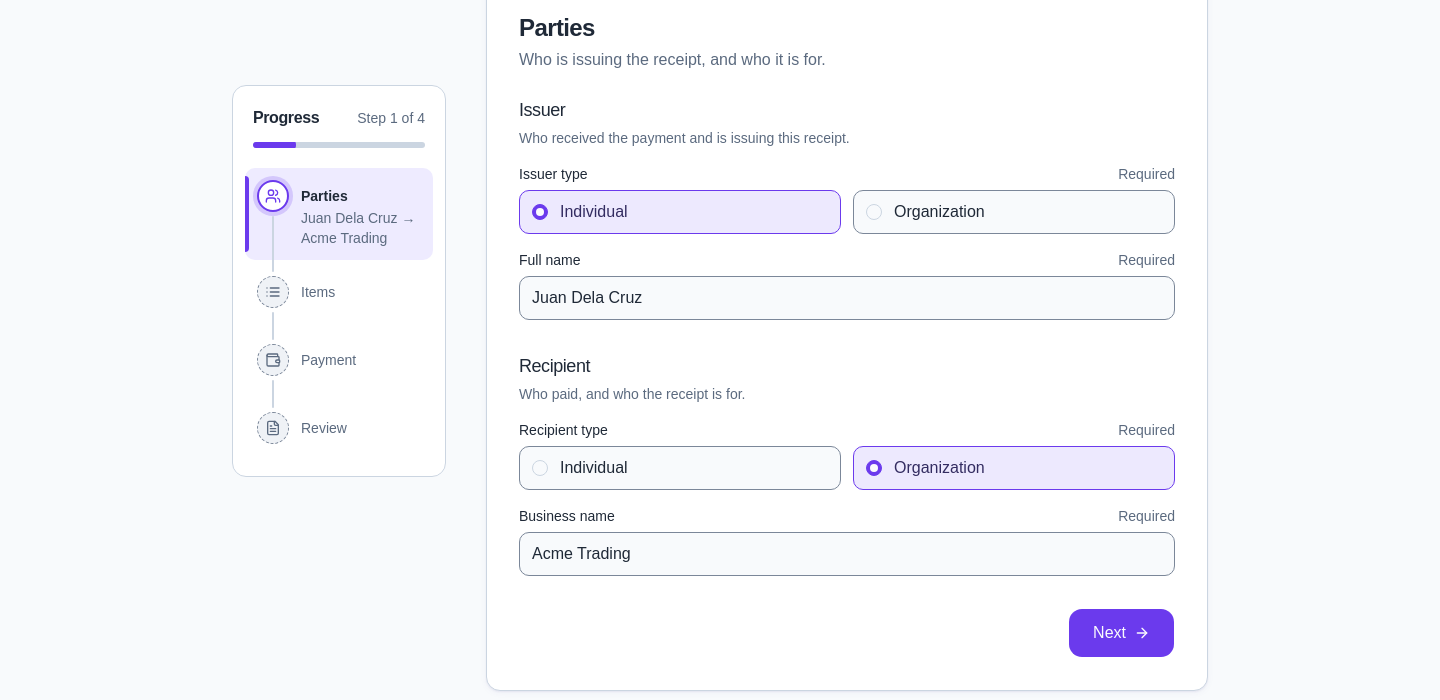
the BIR line › never puts it in a label, heading or test id
The width and height of the screenshot is (1440, 700).
(page scrolled)
Click the button "Next": (1122, 633) left=1068, top=608, right=1175, bottom=658
(page scrolled)
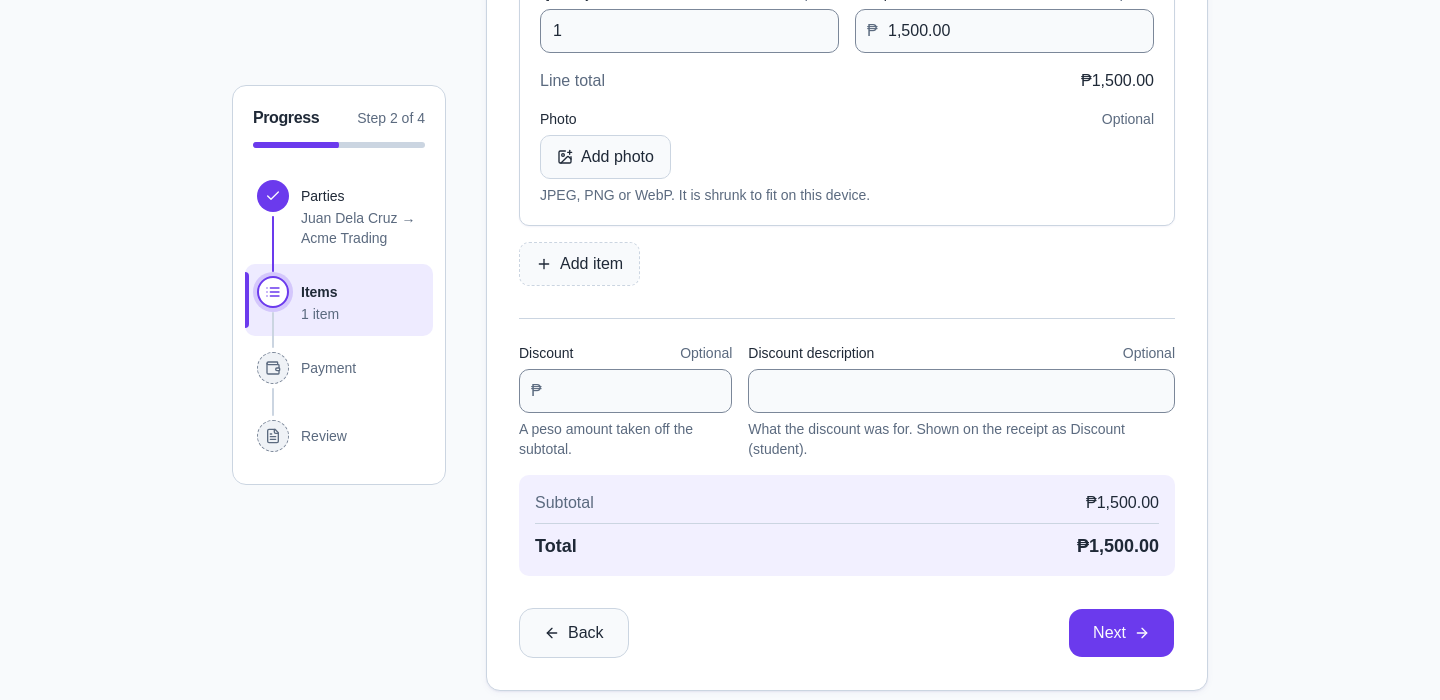
Click the button "Next": (1122, 633) left=1068, top=608, right=1175, bottom=658
(page scrolled)
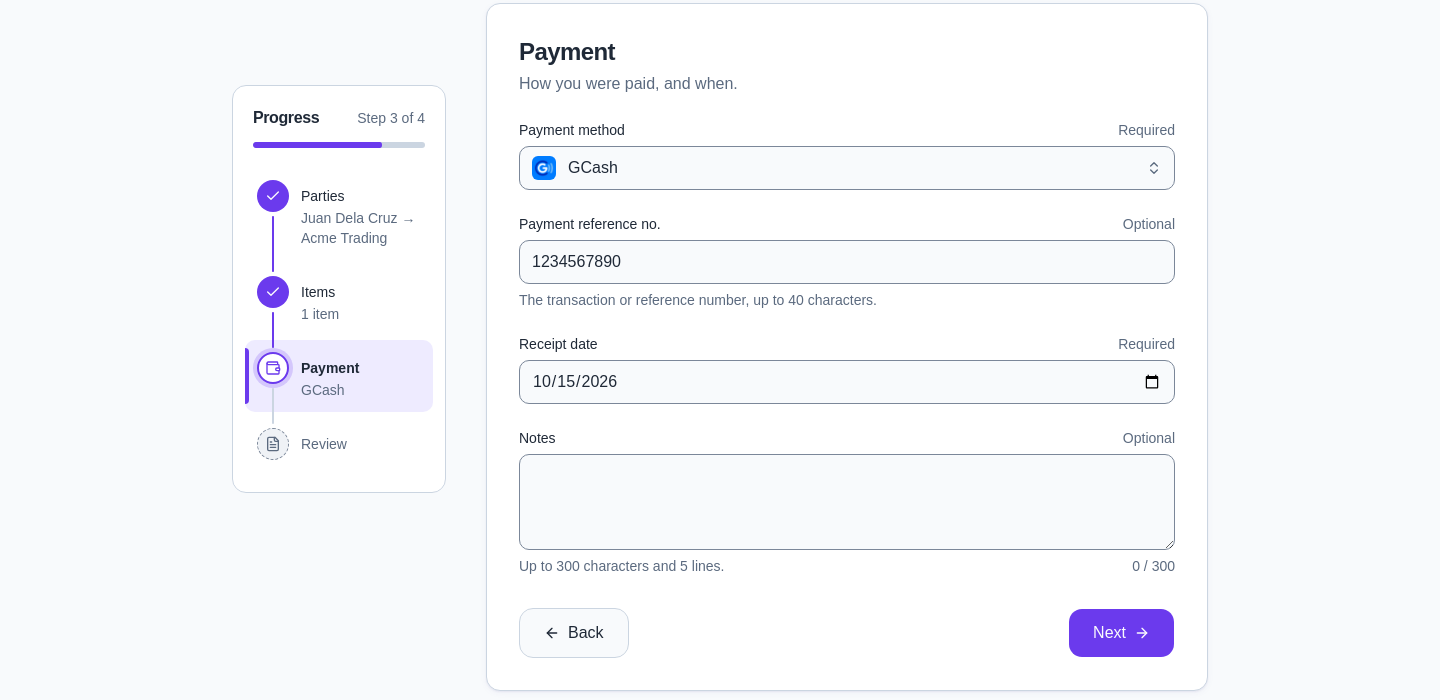
Click the button "Next": (1122, 633) left=1068, top=608, right=1175, bottom=658
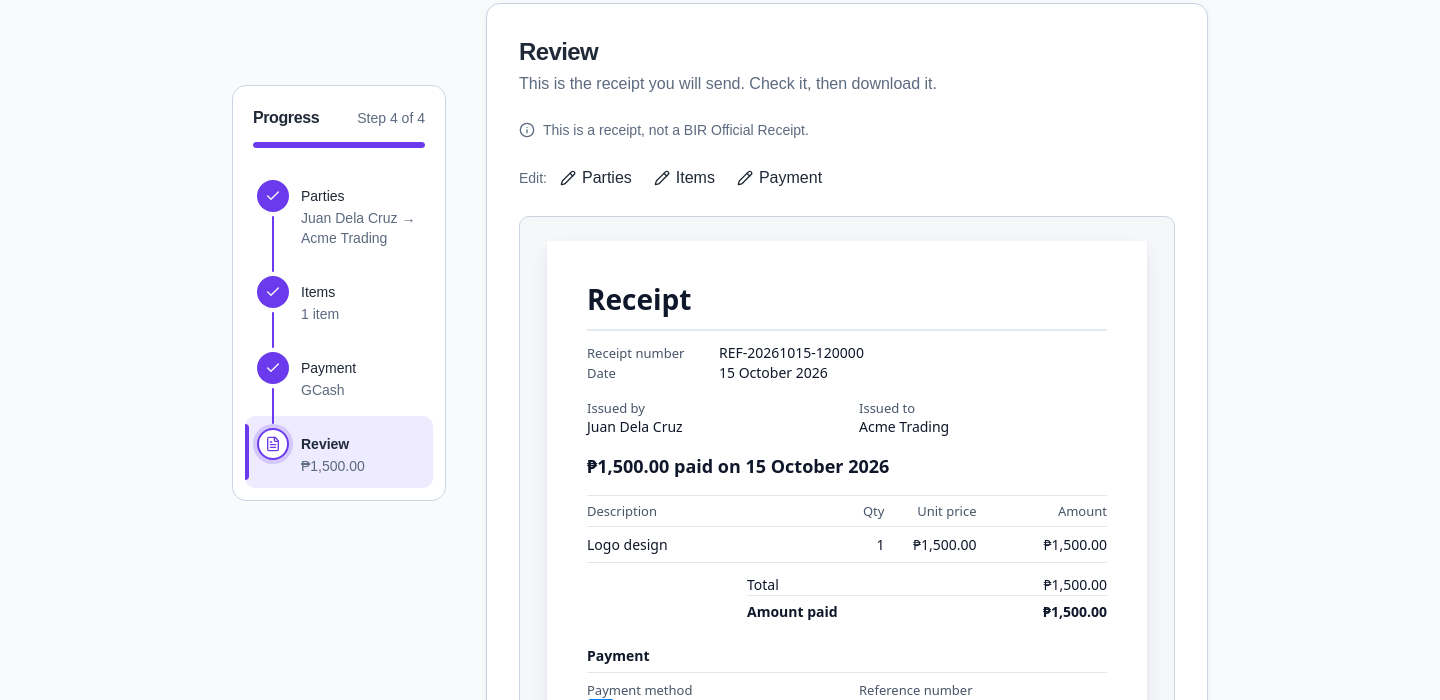
expect the text "This is a receipt, not a BIR Official Receipt." is shown once: met, box left=519, top=122, right=809, bottom=138
